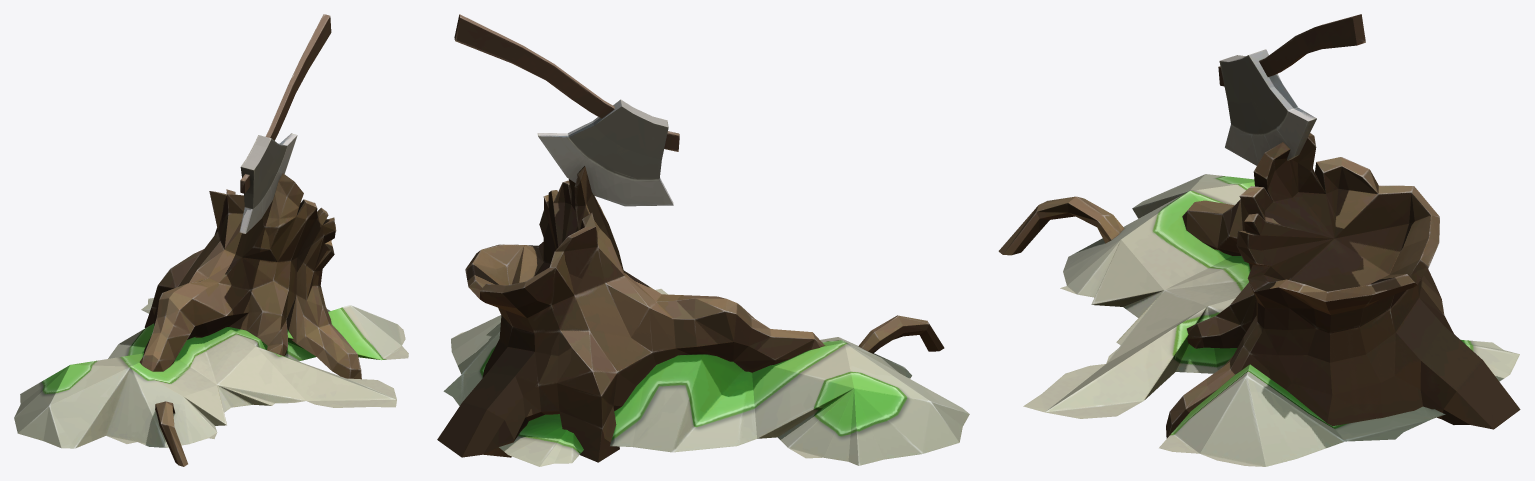
Rendered from shuzhuang.fbx.
3 renders of one model, left to right at view 1: azimuth 30°, elevation 25°; view 2: azimuth 150°, elevation 25°; view 3: azimuth 270°, elevation 25°, orthographic. The views are drawn at different scales.
Visible parts, largest first — view 1: polySurface17; view 2: polySurface17; view 3: polySurface17.
Boxes of the visible parts, bbox=[...] form: polySurface17: bbox=[14, 14, 408, 466]; polySurface17: bbox=[437, 14, 969, 466]; polySurface17: bbox=[998, 14, 1520, 466].
Bounding box in the file's own units: 37.51 × 28.14 × 29.78.
